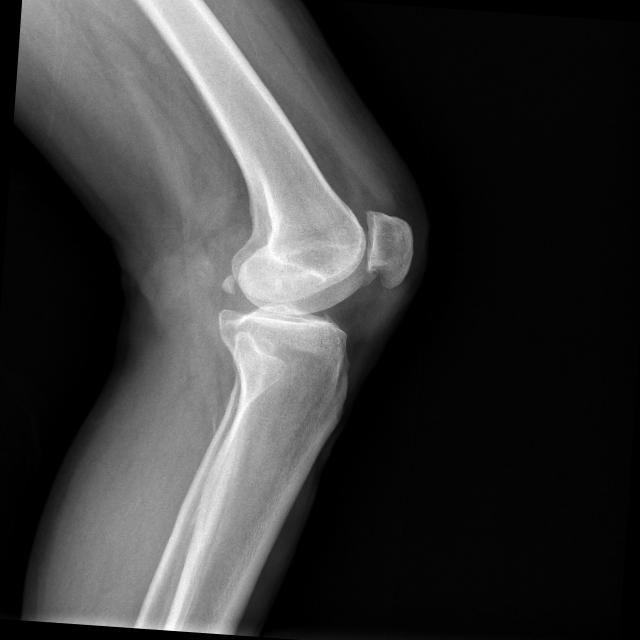Knee: (197, 192, 416, 388)
